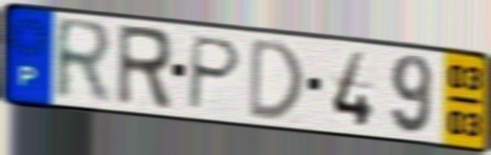4: (329, 48, 375, 129)
9: (386, 52, 439, 137)
D: (246, 35, 306, 122)
P: (184, 33, 245, 113)
R: (53, 14, 117, 108), (113, 22, 175, 114)
